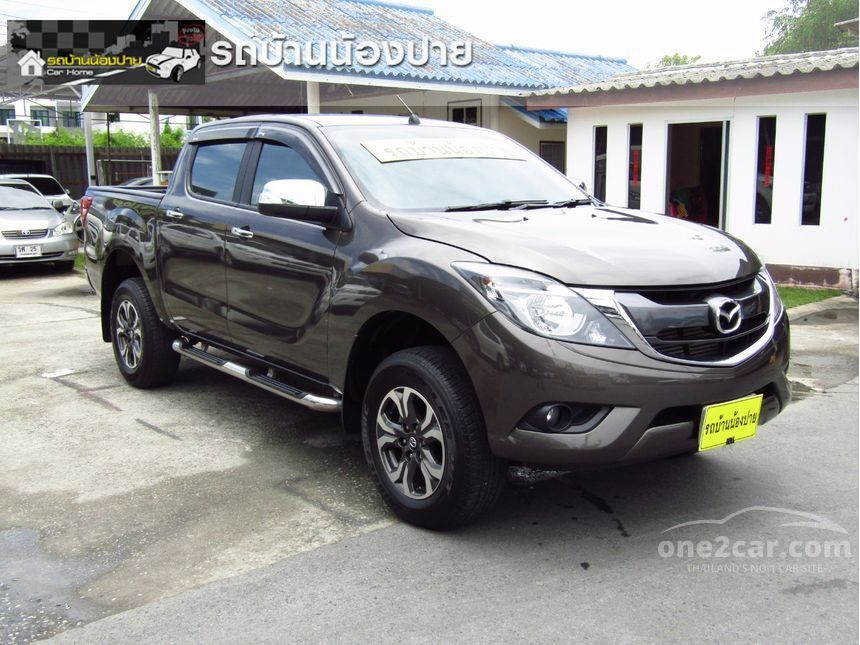pickup: (77, 108, 794, 533)
